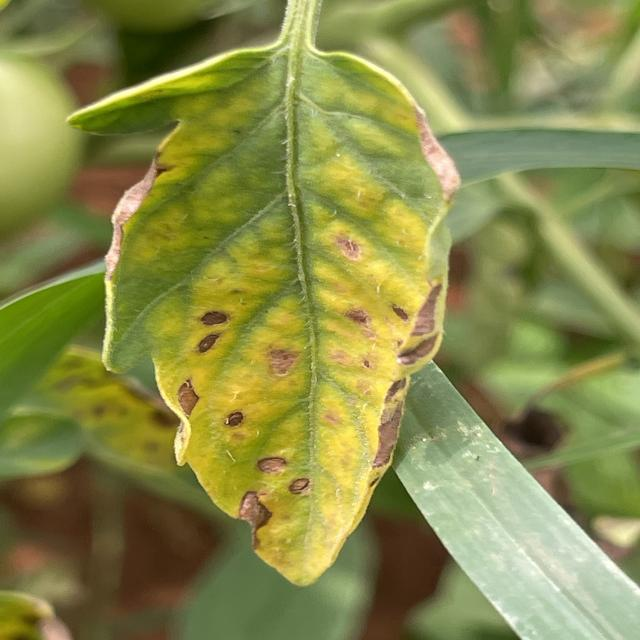tomato_early blight: (69, 36, 460, 586)
